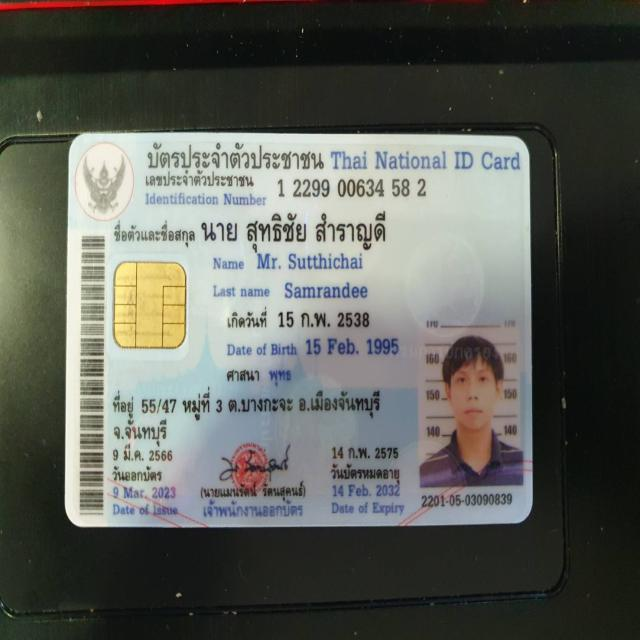Address_th: (112, 384, 393, 449)
Date_of_Birth: (301, 330, 405, 360)
Date_of_Expiry: (326, 479, 404, 499)
Date_of_Issue: (110, 482, 182, 505)
First_Name: (257, 252, 364, 273)
ID_Number: (274, 172, 432, 202)
Image: (420, 322, 519, 490)
Last_Name: (281, 277, 371, 303)
Thai_Name: (196, 206, 390, 252)
